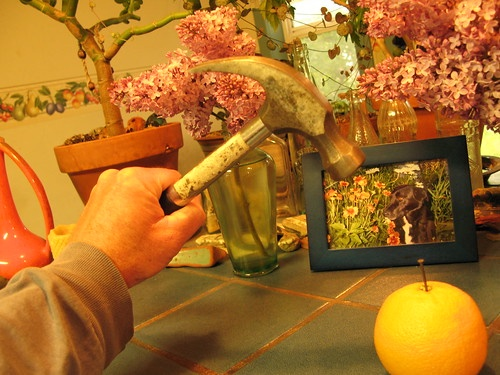hammer: (167, 55, 366, 205)
